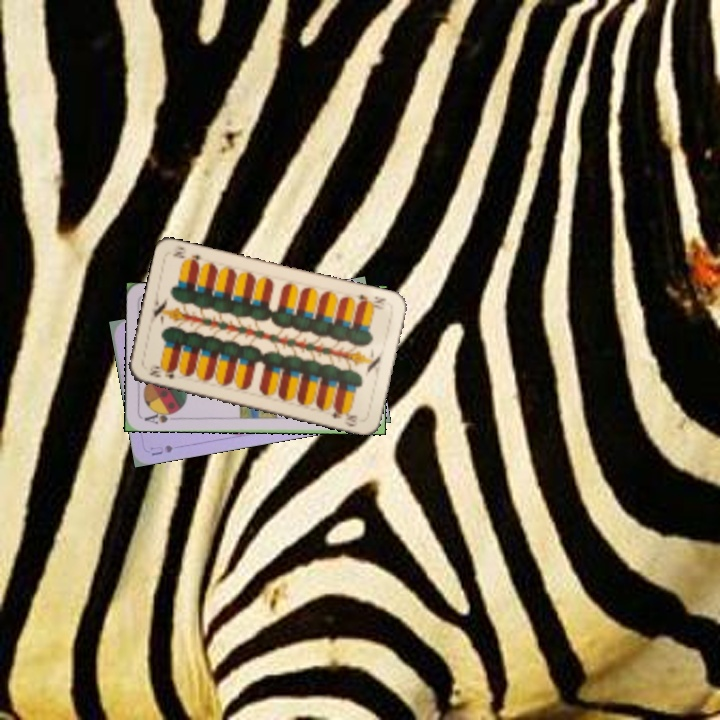E10: (352, 290, 389, 310), (145, 361, 178, 382)
SA: (140, 407, 180, 427)
SU: (146, 441, 176, 458)
